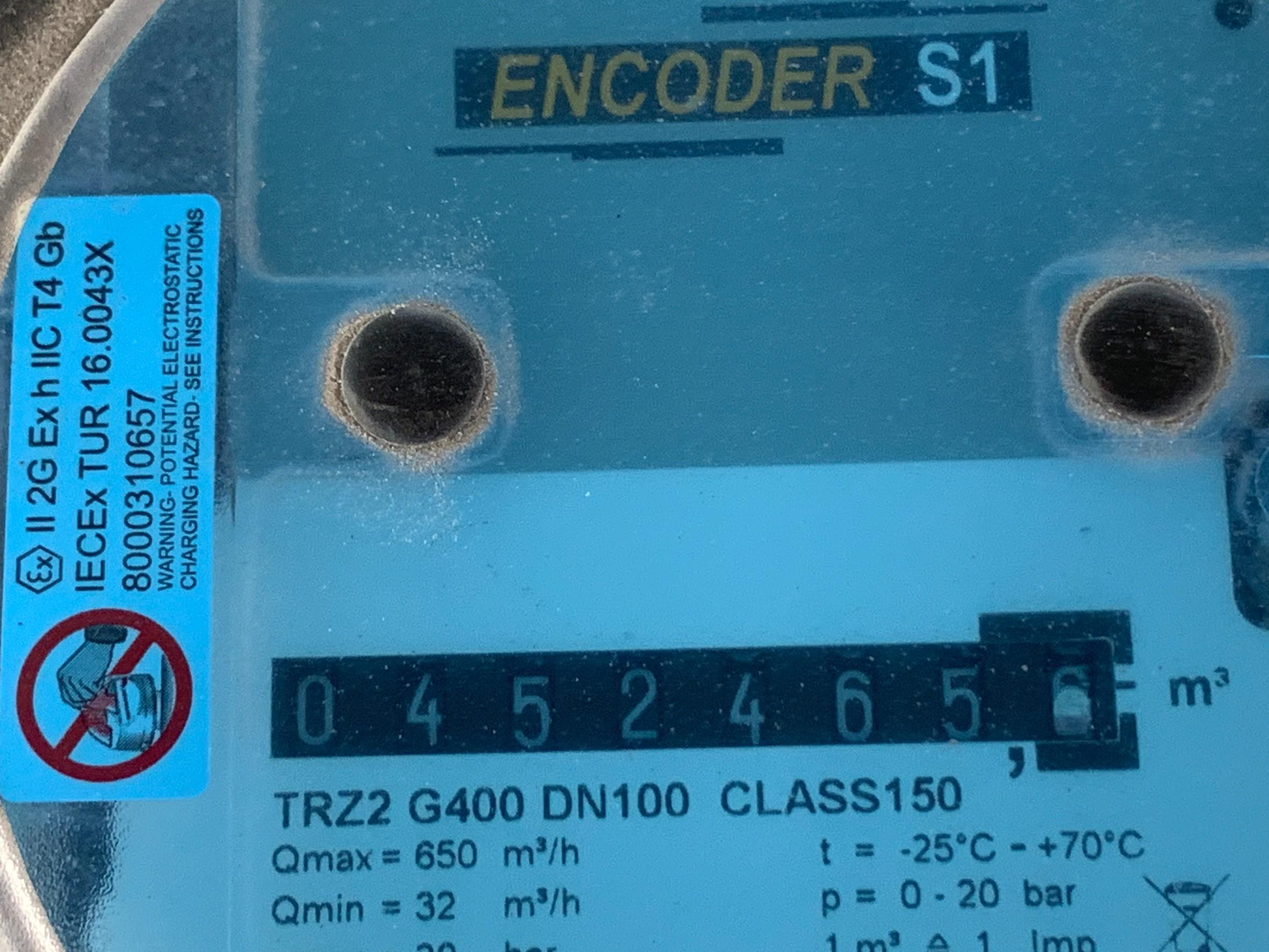analog_dial: (264, 588, 1152, 778)
